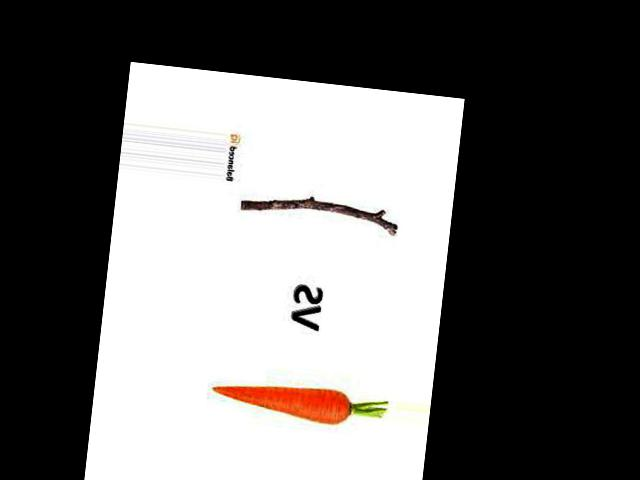carrot: (204, 369, 360, 428)
